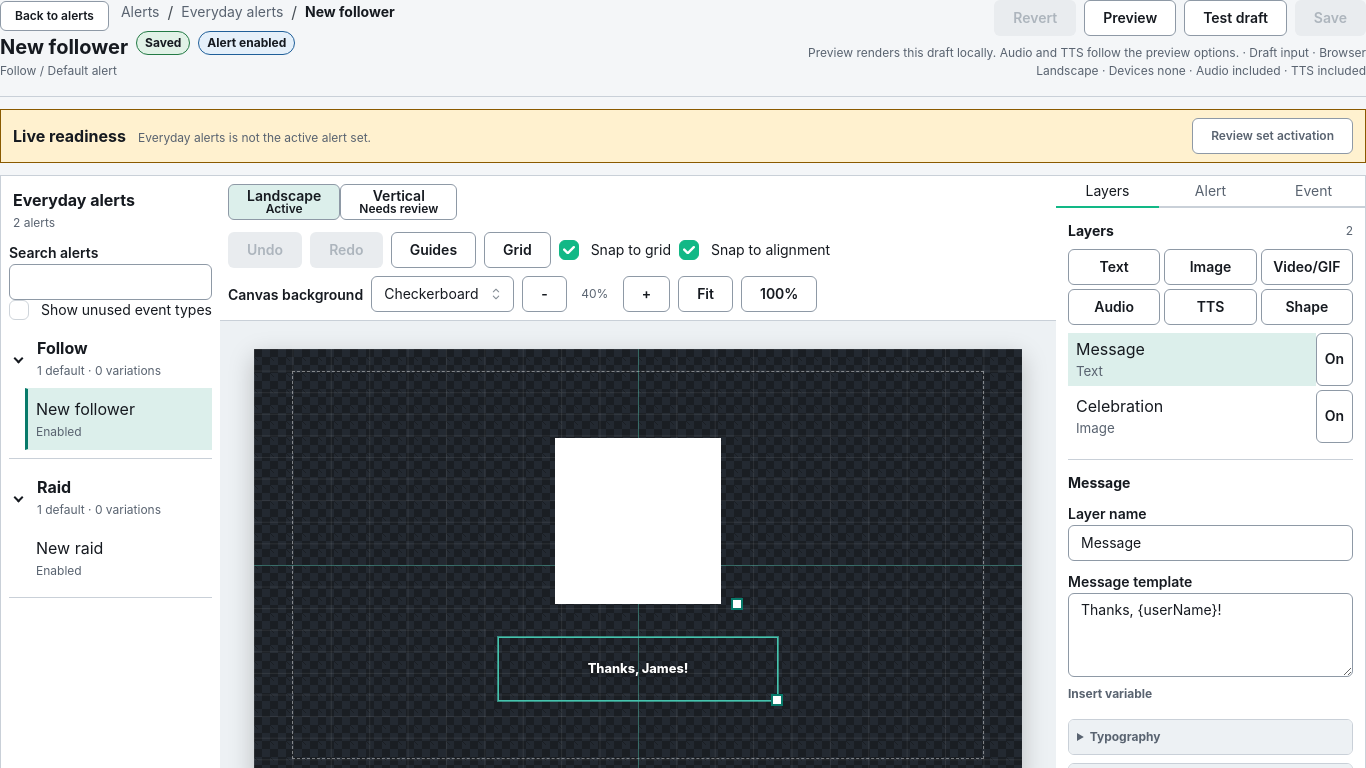
Test: AlertEditorPage › records the displayed generated reference once for a copy failure
Step 1. Replace the text in the text box labelled "Message template" with "Retained diagnostic draft" → (1210, 635), box [1068,593,1353,677]
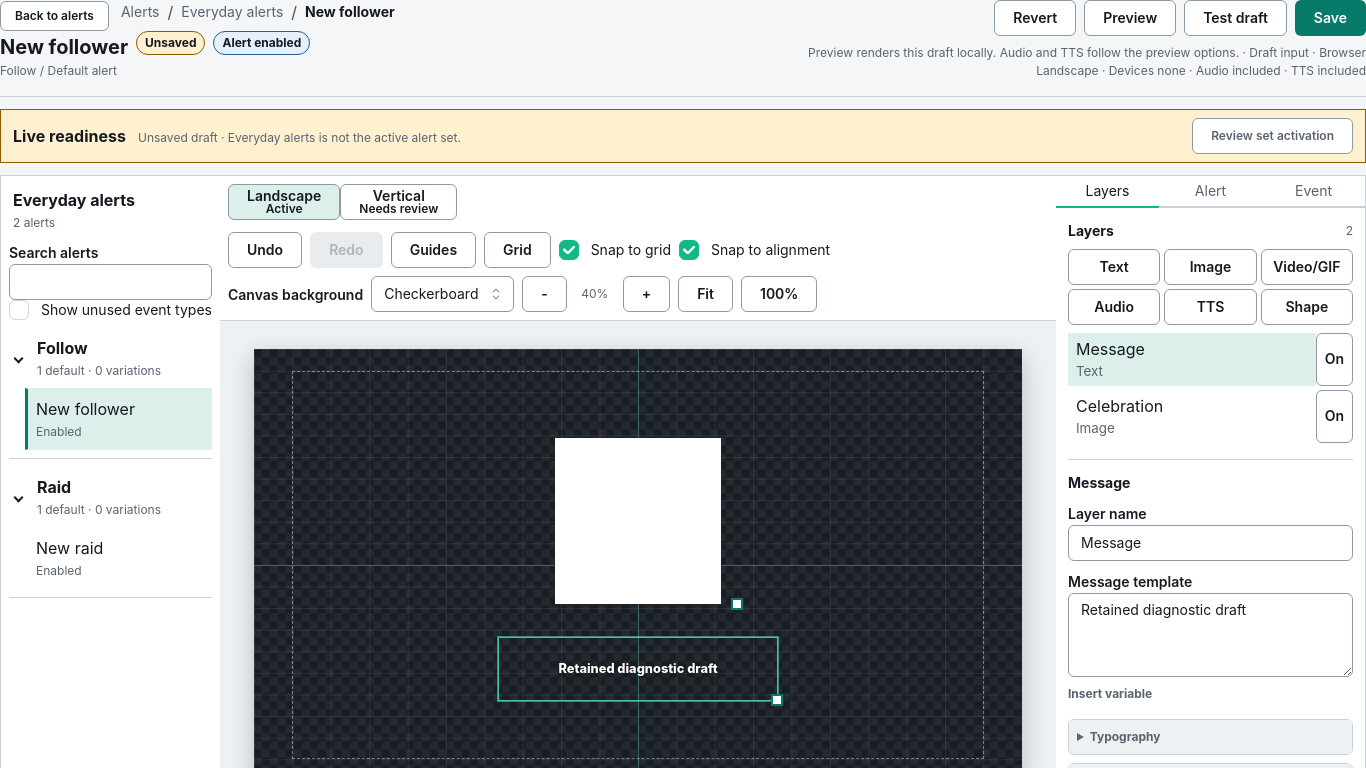
Step 2. Click the tab "Alert" → (1210, 192), box [1159,176,1262,208]
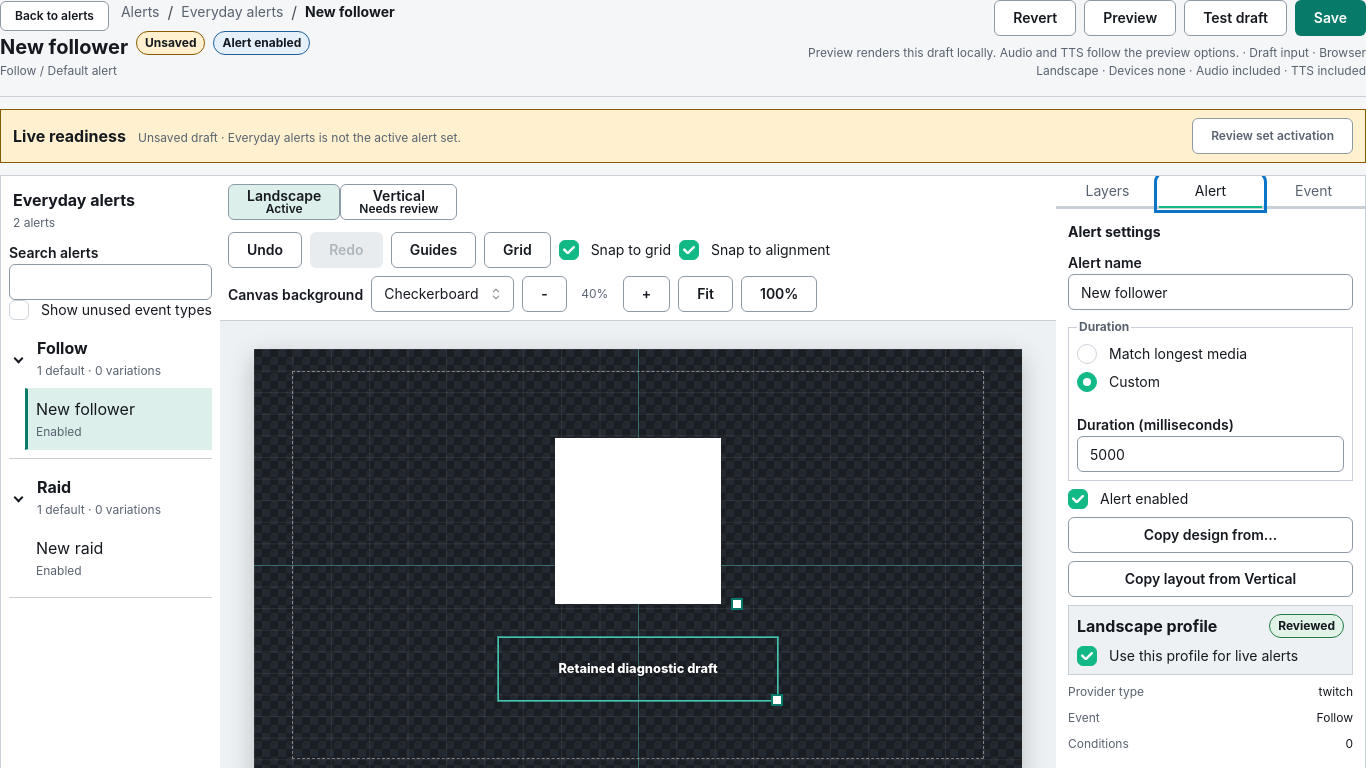
Step 3. Click the button "Copy design from..." → (1210, 535), box [1068,517,1353,553]
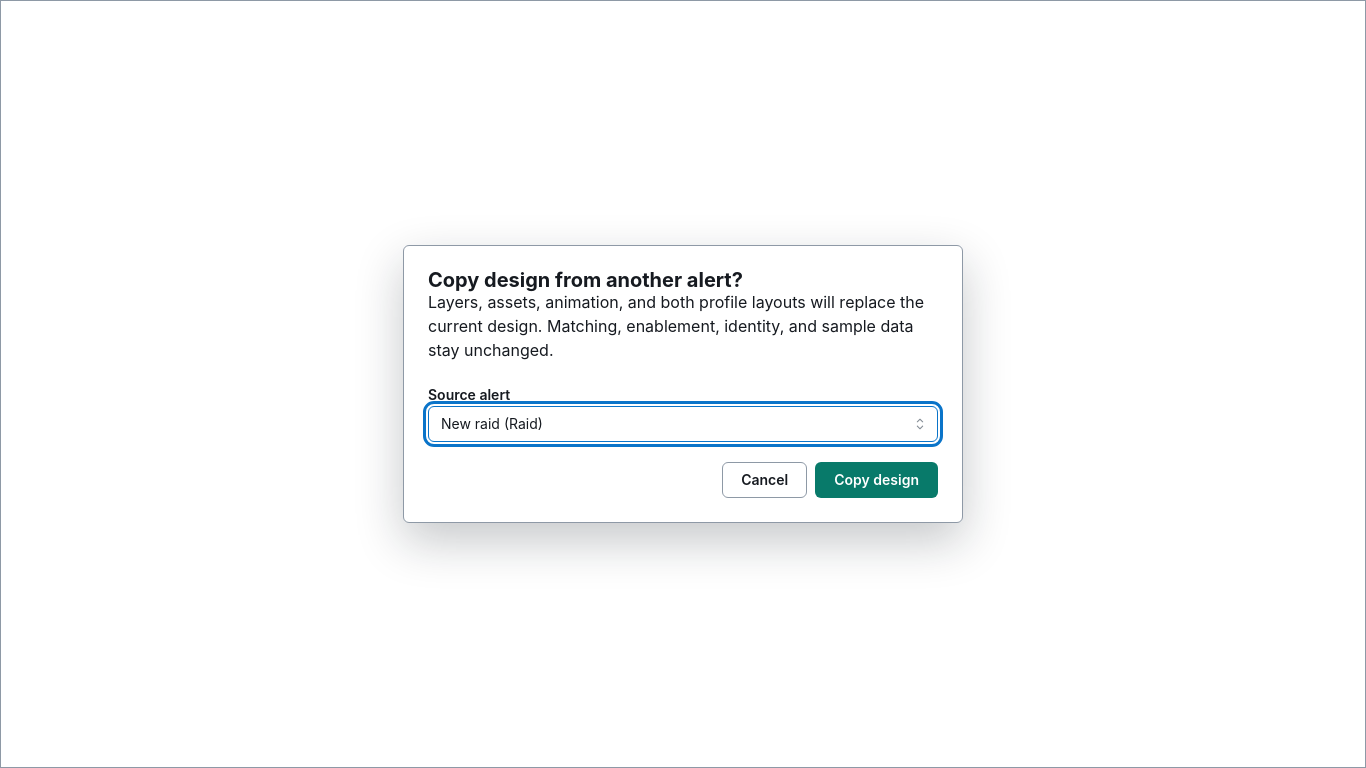
Step 4. Click the button "Copy design" → (877, 480), box [815,462,938,498]
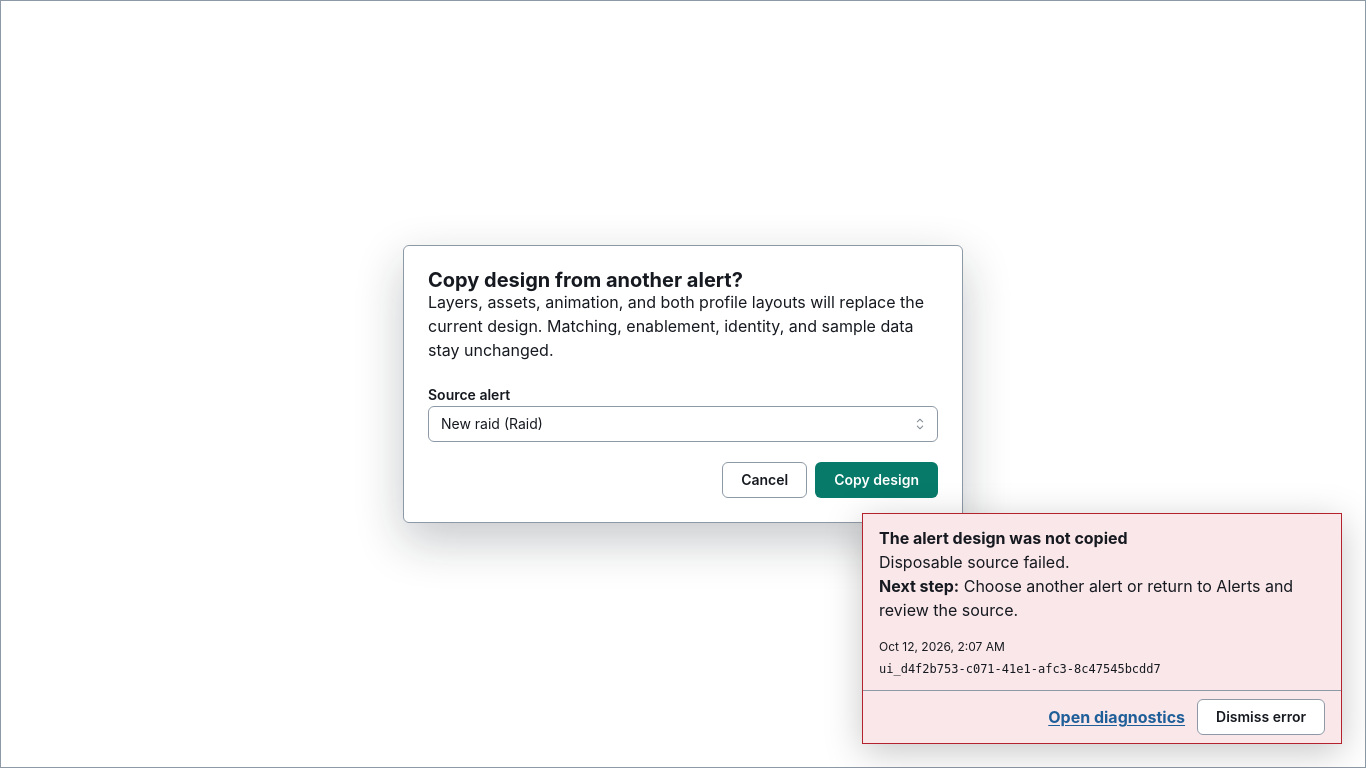
Check: the number of messages is 1, box [863,514,1341,690]
